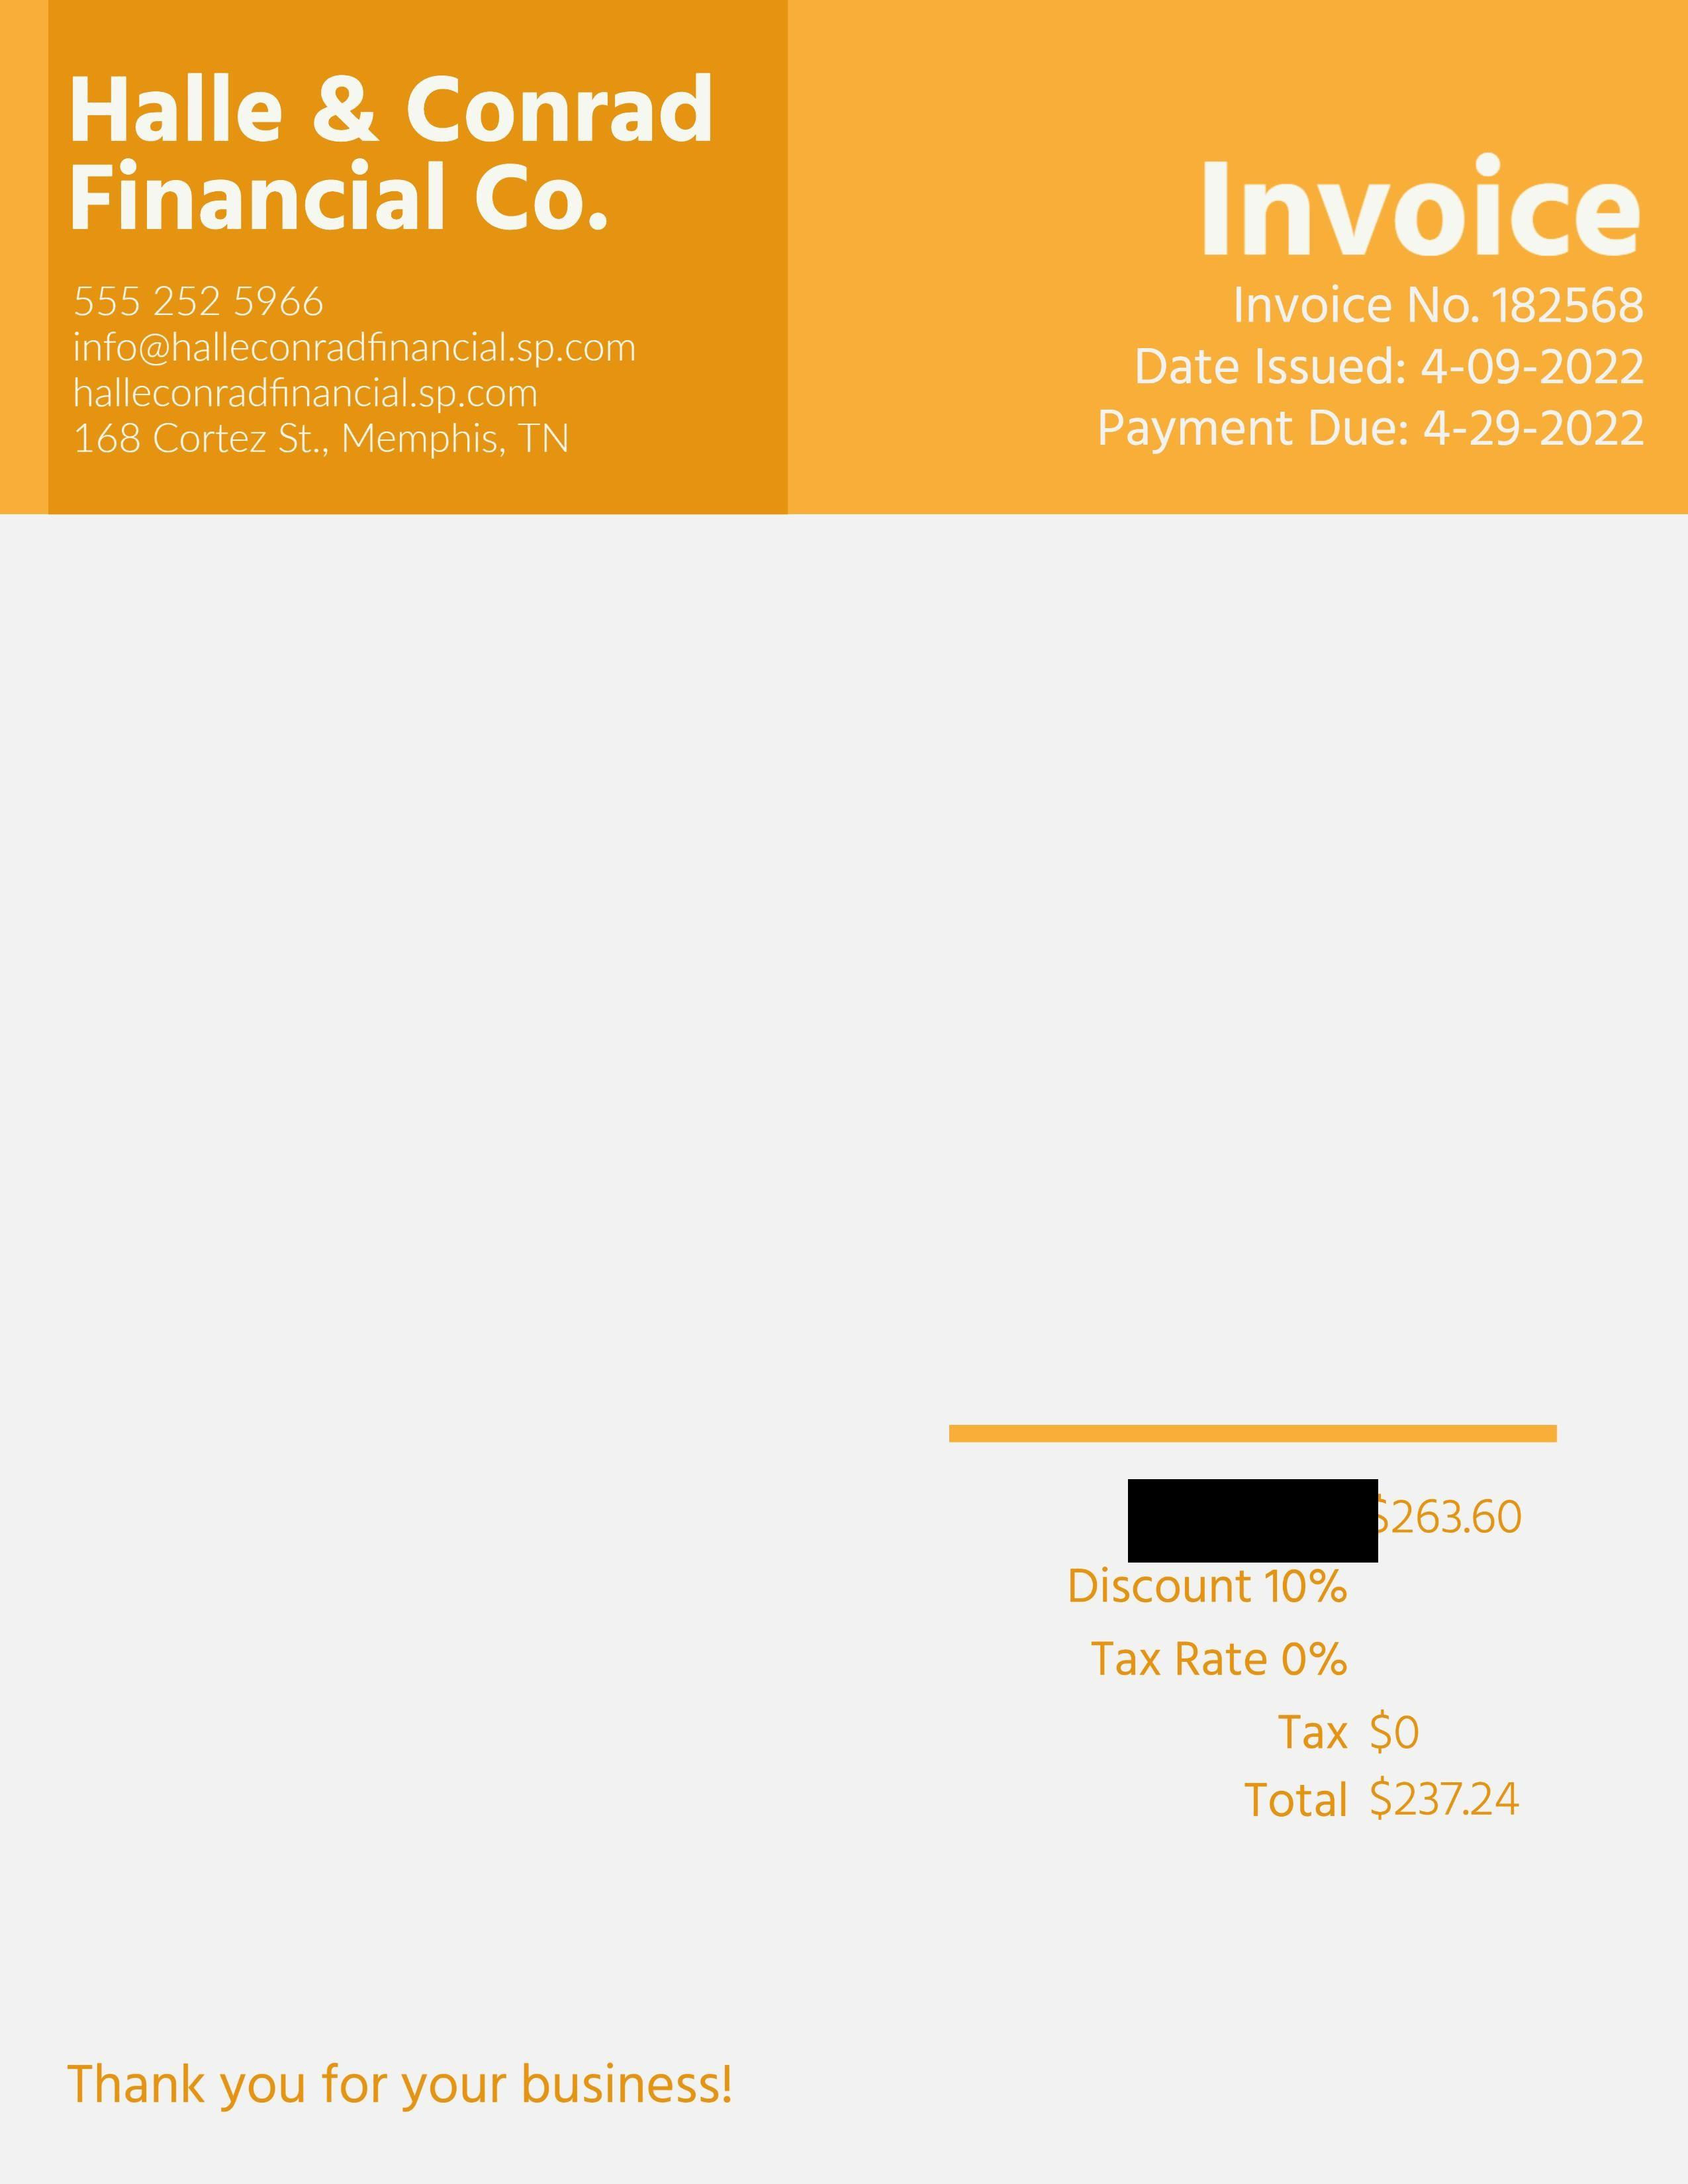ROI: (51, 55, 739, 493), (940, 1404, 1580, 1847), (1076, 273, 1663, 477)
